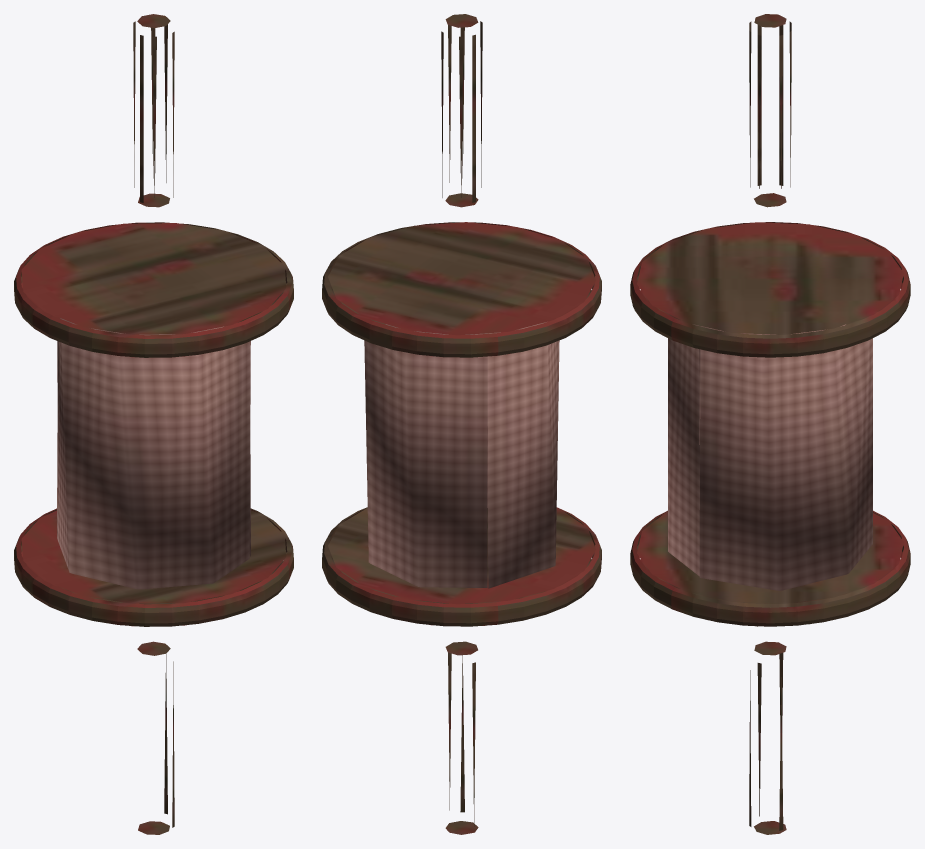
File: SP18_KiteSpool.glb
The picture shows the model from 3 angles, left to right: view 1: azimuth 30°, elevation 25°; view 2: azimuth 150°, elevation 25°; view 3: azimuth 270°, elevation 25°; orthographic projection.
Visible parts, largest first — view 1: SP18_KiteSpool; view 2: SP18_KiteSpool; view 3: SP18_KiteSpool.
Boxes of the visible parts, left/top/right/bottom form: SP18_KiteSpool: left=14, top=14, right=293, bottom=834; SP18_KiteSpool: left=322, top=14, right=601, bottom=834; SP18_KiteSpool: left=630, top=14, right=910, bottom=834.
Size of the model in its own units: 0.063 by 0.2 by 0.063.
2 materials, 2 textured.
